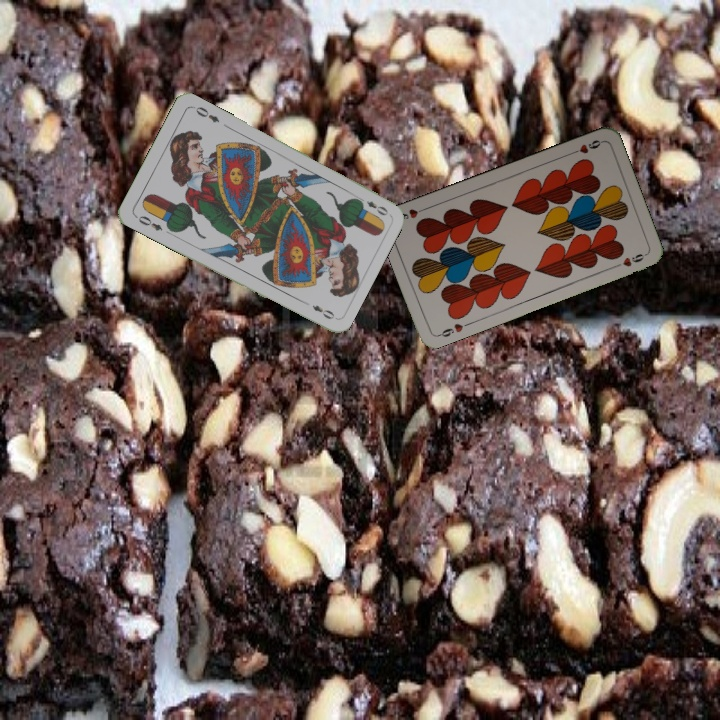EO: (353, 193, 391, 218), (131, 211, 165, 233)
H9: (566, 136, 605, 158), (434, 319, 465, 340)
